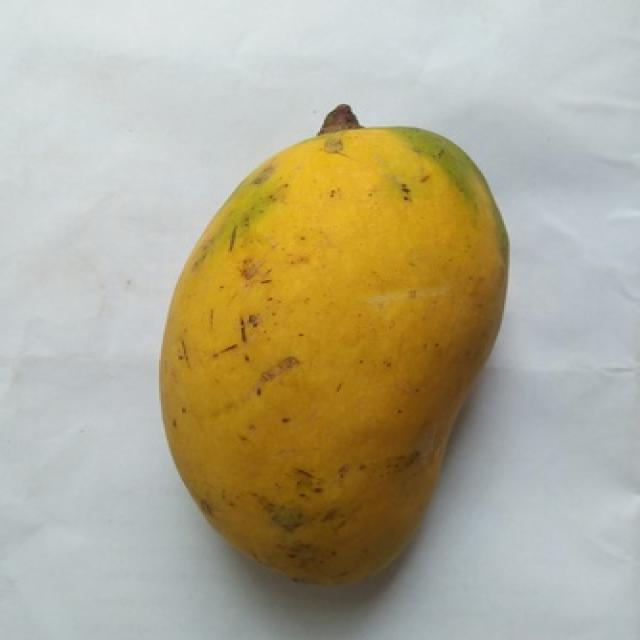Mango: (161, 107, 506, 581)
